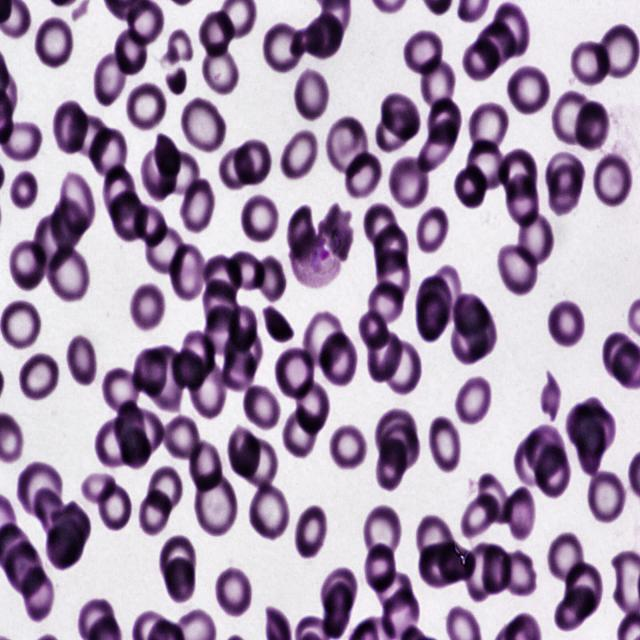red blood cell: (193, 467, 238, 540), (324, 113, 370, 180), (180, 95, 227, 156), (44, 242, 90, 303), (148, 345, 188, 414), (388, 150, 432, 212), (173, 330, 217, 392), (302, 310, 346, 371), (16, 460, 63, 517), (316, 328, 359, 387), (506, 63, 551, 119), (168, 240, 208, 302), (595, 23, 639, 79), (592, 148, 632, 209), (586, 468, 628, 526), (86, 125, 128, 183), (274, 346, 318, 401), (381, 339, 422, 398), (187, 438, 227, 497), (362, 506, 402, 565), (544, 531, 586, 587), (417, 118, 459, 174), (114, 410, 164, 457), (31, 488, 74, 542), (34, 14, 74, 72), (187, 360, 226, 419), (0, 298, 46, 348), (281, 403, 322, 459), (59, 171, 96, 233), (125, 82, 168, 135), (467, 102, 510, 155), (403, 28, 446, 81), (544, 296, 586, 350), (249, 486, 291, 540), (496, 244, 538, 298), (428, 412, 464, 474), (293, 376, 330, 436), (239, 192, 280, 246), (554, 90, 595, 144), (292, 65, 330, 123), (514, 436, 558, 486), (374, 407, 418, 457), (465, 140, 508, 190), (454, 374, 493, 429), (5, 540, 44, 595), (240, 381, 281, 433), (361, 542, 399, 598), (516, 214, 554, 270), (142, 143, 178, 202), (262, 22, 302, 75), (214, 566, 254, 619), (570, 100, 610, 153), (526, 426, 566, 479), (506, 170, 540, 232), (144, 224, 186, 274), (602, 330, 640, 385), (328, 422, 368, 474), (32, 216, 72, 268), (94, 49, 129, 108), (376, 247, 412, 304), (414, 273, 453, 325), (459, 305, 498, 357), (157, 150, 200, 197), (554, 584, 597, 631), (340, 152, 382, 200), (293, 503, 329, 559), (493, 2, 529, 58), (366, 330, 402, 386), (498, 149, 540, 197), (202, 278, 238, 334), (564, 564, 604, 614), (52, 501, 92, 551), (239, 438, 279, 488), (66, 115, 110, 160), (377, 92, 420, 138), (129, 280, 166, 333), (22, 566, 55, 625), (202, 45, 240, 96), (567, 39, 610, 84), (458, 492, 499, 539), (160, 536, 197, 588), (279, 129, 318, 178), (46, 520, 84, 570), (475, 22, 518, 66), (110, 192, 147, 243), (162, 416, 203, 462), (381, 590, 421, 637), (420, 56, 456, 108), (306, 12, 345, 60), (477, 473, 513, 525), (536, 445, 570, 500), (416, 515, 454, 564), (464, 543, 495, 603), (51, 197, 86, 250), (451, 314, 488, 364), (419, 544, 461, 588), (222, 328, 262, 374), (234, 137, 273, 184), (102, 367, 140, 415), (546, 150, 584, 198), (452, 290, 490, 338), (204, 308, 242, 356), (374, 440, 408, 493), (414, 291, 448, 344), (146, 466, 182, 516), (426, 96, 462, 146), (462, 38, 502, 83), (20, 354, 59, 400), (320, 568, 358, 615), (371, 226, 409, 273), (225, 427, 260, 478), (180, 179, 213, 233), (65, 333, 98, 387), (504, 487, 538, 539), (104, 165, 136, 220), (550, 164, 582, 219), (115, 401, 146, 457), (53, 102, 87, 153), (580, 407, 616, 455), (132, 348, 168, 396), (94, 421, 130, 469), (376, 109, 416, 152), (286, 203, 317, 258), (363, 202, 400, 248), (368, 280, 405, 326), (199, 11, 235, 58), (432, 266, 462, 322), (202, 257, 241, 300), (126, 1, 164, 45), (222, 343, 256, 392), (97, 482, 130, 532), (171, 346, 206, 393), (226, 250, 265, 292), (438, 540, 476, 583), (322, 583, 352, 637), (9, 241, 43, 288), (0, 122, 42, 160), (382, 425, 420, 467), (482, 542, 512, 595), (454, 161, 487, 209), (504, 550, 536, 599), (140, 490, 173, 537), (576, 424, 606, 475), (220, 147, 254, 190), (255, 255, 286, 302), (163, 555, 194, 602), (228, 307, 259, 354), (376, 574, 413, 613), (115, 28, 146, 74), (132, 205, 166, 246), (416, 206, 446, 252), (358, 311, 392, 351), (262, 304, 297, 342), (120, 427, 152, 468), (565, 404, 595, 447), (7, 170, 38, 208), (154, 134, 181, 175), (80, 474, 118, 503)
trophozoite: (290, 215, 347, 288)
